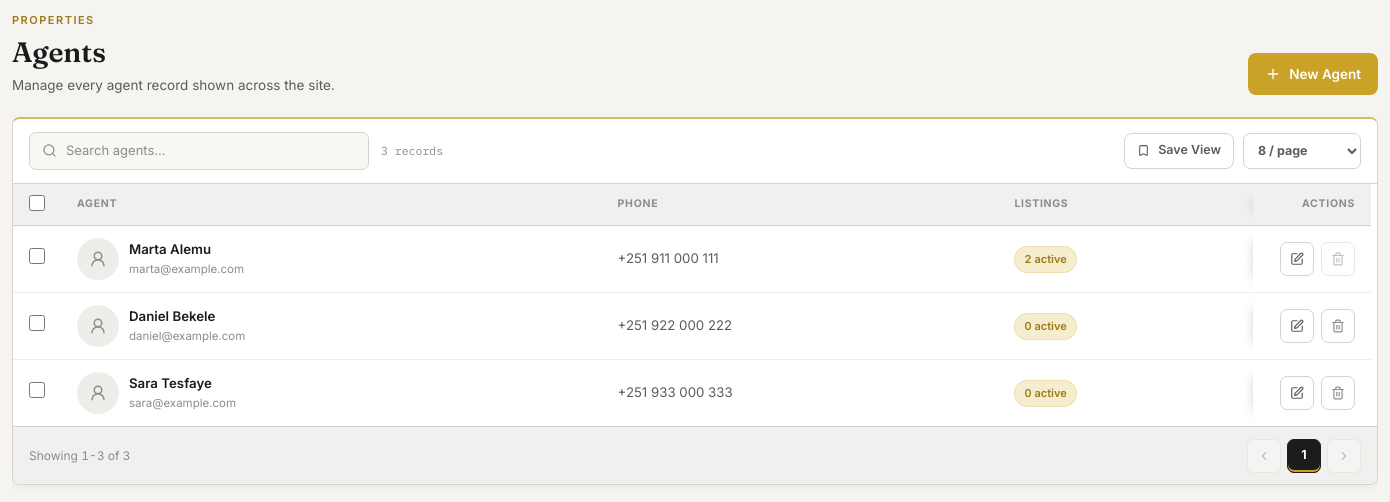
Test: AgentsPage › finds agents by social profile fields
The width and height of the screenshot is (1390, 502).
Type "daniel-lookup" into the search field labelled "Search agents" at (211, 151), box [66,141,356,160]
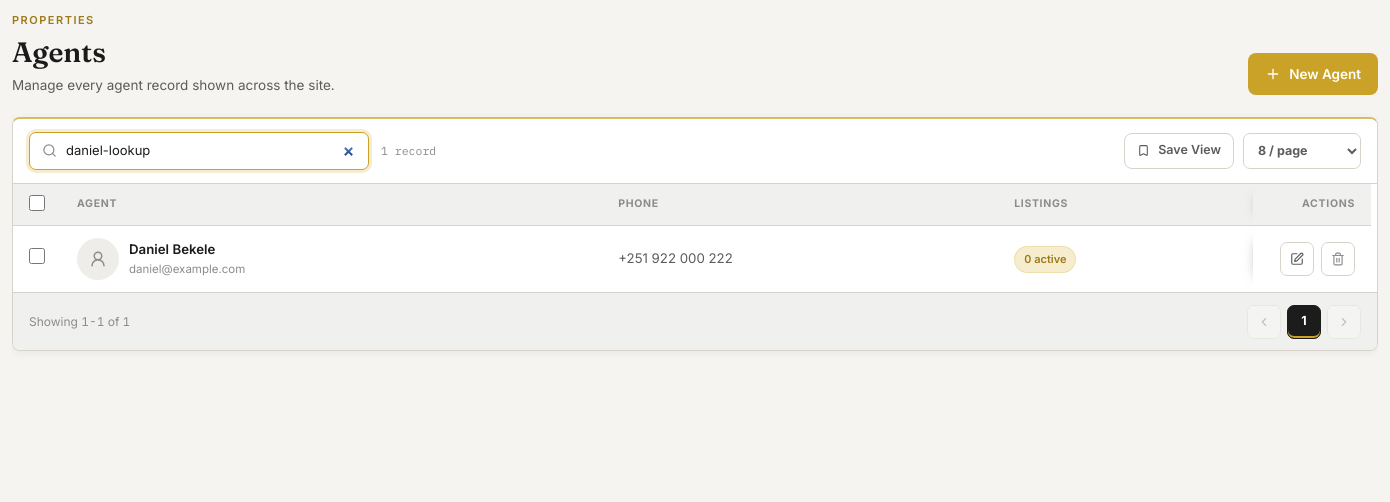
expect the text "Daniel Bekele" is shown: met, box [129,241,215,257]
expect the text "Marta Alemu" is gone: met
